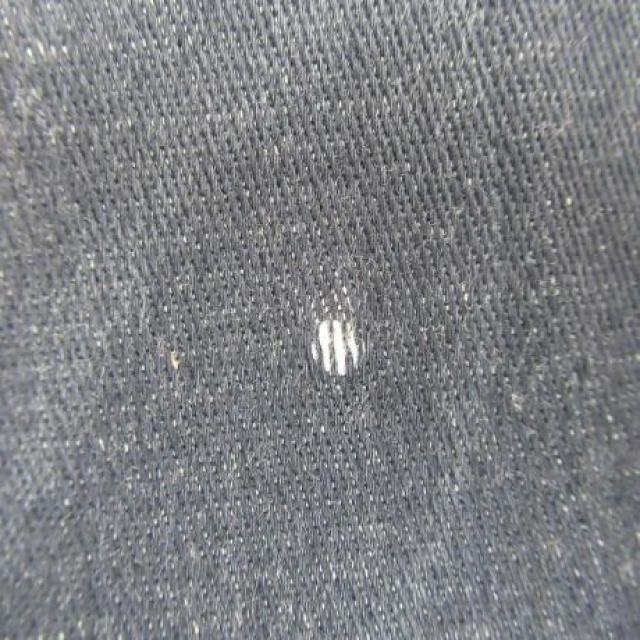Thread_other: (202, 212, 426, 473)
